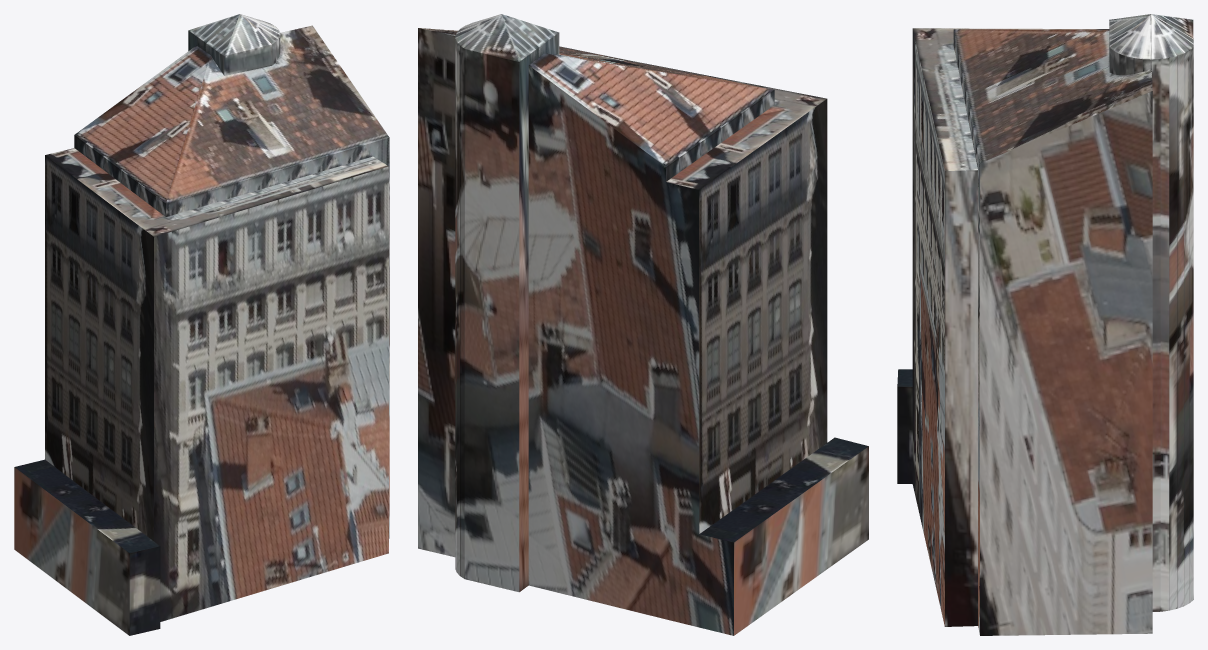
The picture shows the model from 3 angles, left to right: view 1: azimuth 30°, elevation 25°; view 2: azimuth 150°, elevation 25°; view 3: azimuth 270°, elevation 25°; orthographic projection. The views are drawn at different scales.
Visible parts, largest first — view 1: Z_UP; view 2: Z_UP; view 3: Z_UP.
Boxes of the visible parts, x1,y1,x2,y2 form: Z_UP: [14, 14, 389, 635]; Z_UP: [418, 14, 868, 635]; Z_UP: [897, 14, 1193, 635].
Bounding box in the file's own units: 17.84 × 28.36 × 13.18.
Materials: 2 (1 with a texture image).
